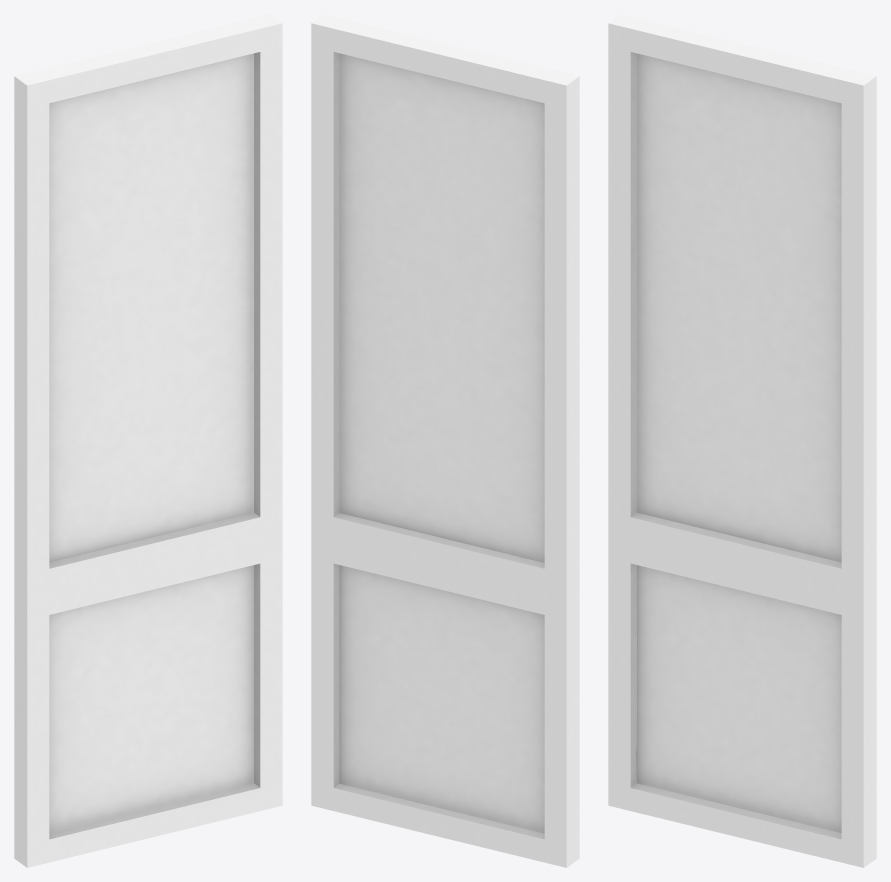
Rendered from DoorHigh.glb.
The picture shows the model from 3 angles, left to right: view 1: azimuth 30°, elevation 25°; view 2: azimuth 150°, elevation 25°; view 3: azimuth 330°, elevation 25°; orthographic projection.
Visible parts, largest first — view 1: DoorHigh.002, DoorHigh; view 2: DoorHigh.002, DoorHigh; view 3: DoorHigh.002, DoorHigh.
Boxes of the visible parts, x1=… form: DoorHigh.002: x1=49, y1=53, x2=253, y2=832; DoorHigh: x1=14, y1=14, x2=282, y2=867; DoorHigh.002: x1=339, y1=53, x2=544, y2=833; DoorHigh: x1=311, y1=14, x2=579, y2=867; DoorHigh.002: x1=637, y1=53, x2=841, y2=832; DoorHigh: x1=608, y1=14, x2=876, y2=867.
Bounding box in the file's own units: 0.8094 × 2.37 × 0.07.
Materials: 2 (2 with a texture image).
